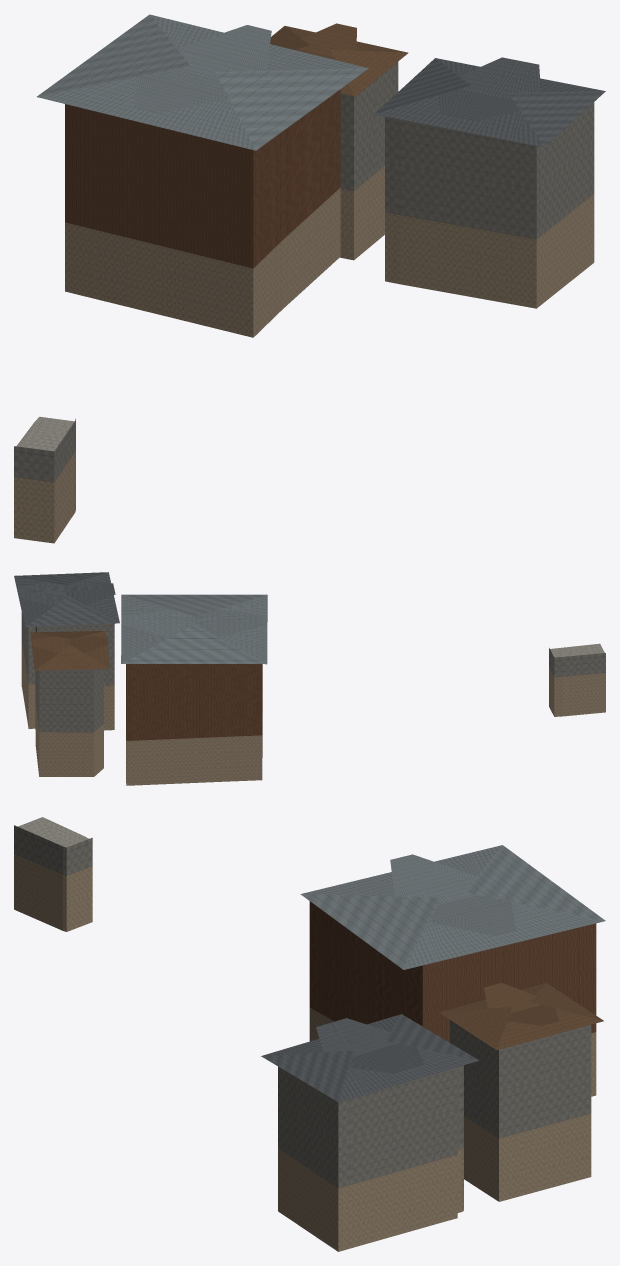
Rendered from bld_c43_32_261.gltf.
The picture shows the model from 3 angles, top to bottom: view 1: azimuth 30°, elevation 25°; view 2: azimuth 150°, elevation 25°; view 3: azimuth 270°, elevation 25°; orthographic projection. The views are drawn at different scales.
Parts seen in each view (by area): view 1: bld_c43_32_261; view 2: bld_c43_32_261; view 3: bld_c43_32_261.
Part boxes in pixels (left/top/right/bottom): bld_c43_32_261: left=14, top=14, right=605, bottom=543; bld_c43_32_261: left=14, top=572, right=605, bottom=785; bld_c43_32_261: left=14, top=817, right=605, bottom=1251.
Size of the model in its own units: 58.09 by 16.8 by 43.05.
Materials: 8 (8 with a texture image).
